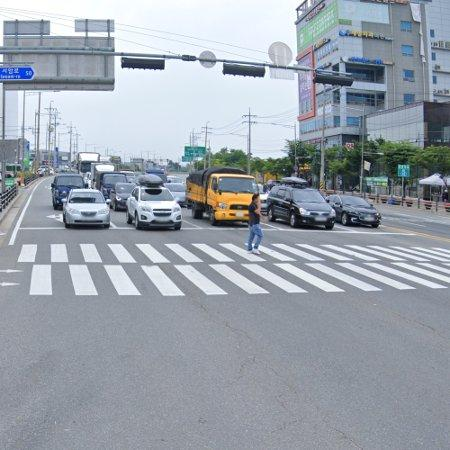taxis: (187, 167, 259, 224)
